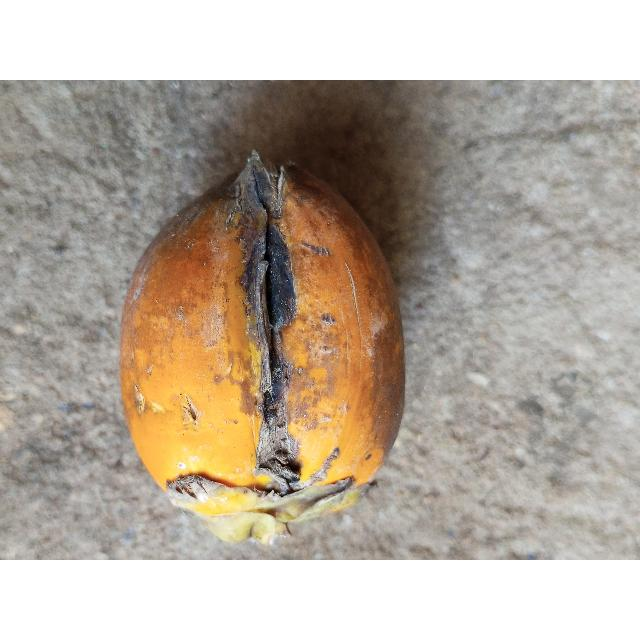damaged: (120, 151, 405, 544)
